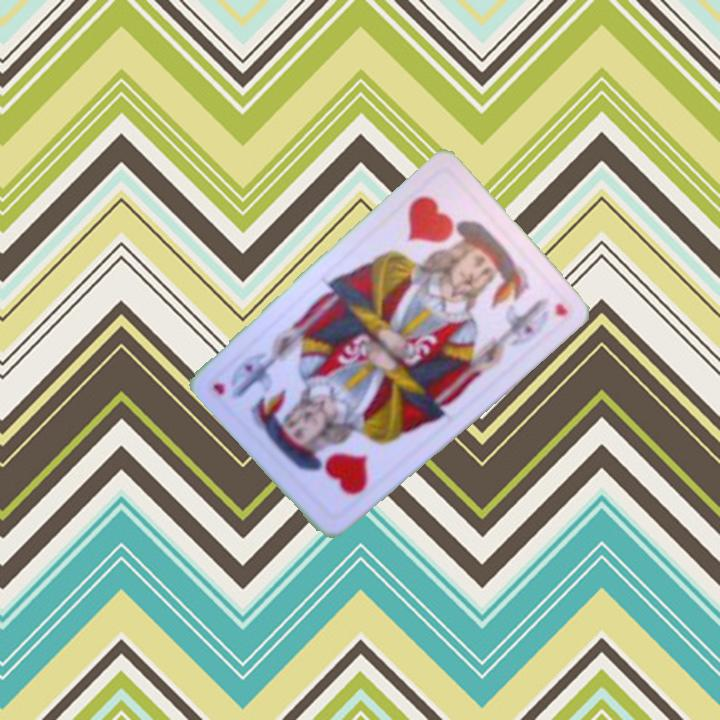h_j.png: (381, 167, 510, 297), (268, 395, 396, 524)
